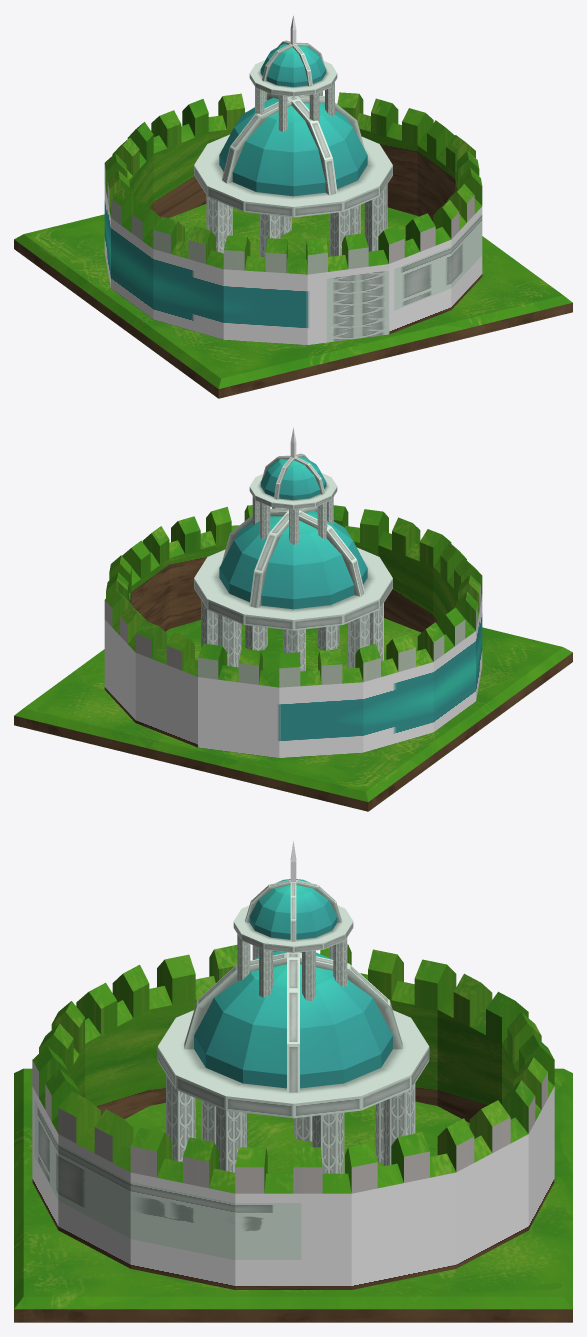
The model's file is Castle.fbx.
3 views of the same model, one above another, from view 1: azimuth 30°, elevation 25°; view 2: azimuth 150°, elevation 25°; view 3: azimuth 270°, elevation 25° (orthographic). The views are drawn at different scales.
Parts seen in each view (by area): view 1: Castle.001; view 2: Castle.001; view 3: Castle.001.
Boxes of the visible parts, box(x1,y1,x2,y2) form: Castle.001: box(14, 14, 572, 398); Castle.001: box(14, 427, 572, 811); Castle.001: box(14, 840, 572, 1322).
Size of the model in its own units: 578 by 415 by 578.
3 materials, 3 textured.
